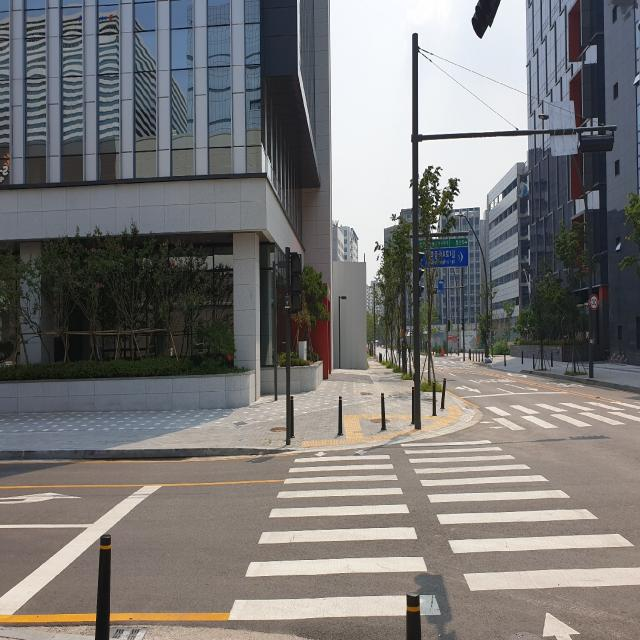횡단보도: (224, 435, 640, 640), (479, 388, 640, 436)
